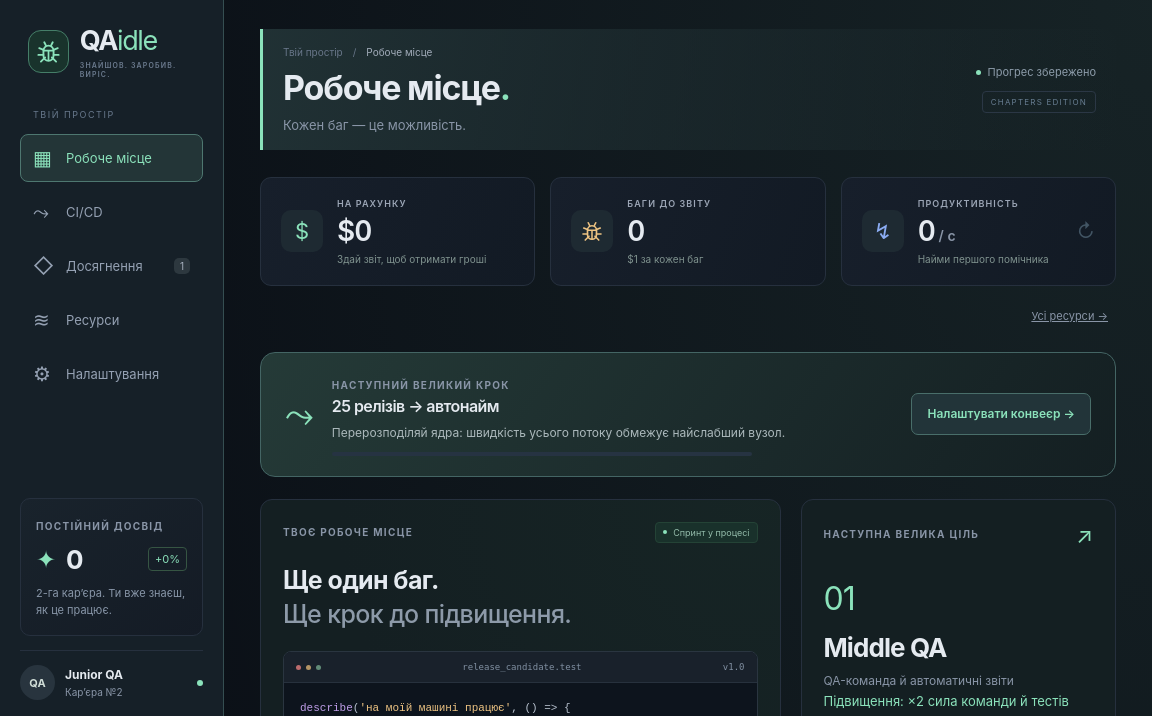
Scenario: hides spatial layers until the trial rewards are claimed
Click the button "⤳ CI/CD": (112, 212) x1=20 y1=188 x2=203 y2=236
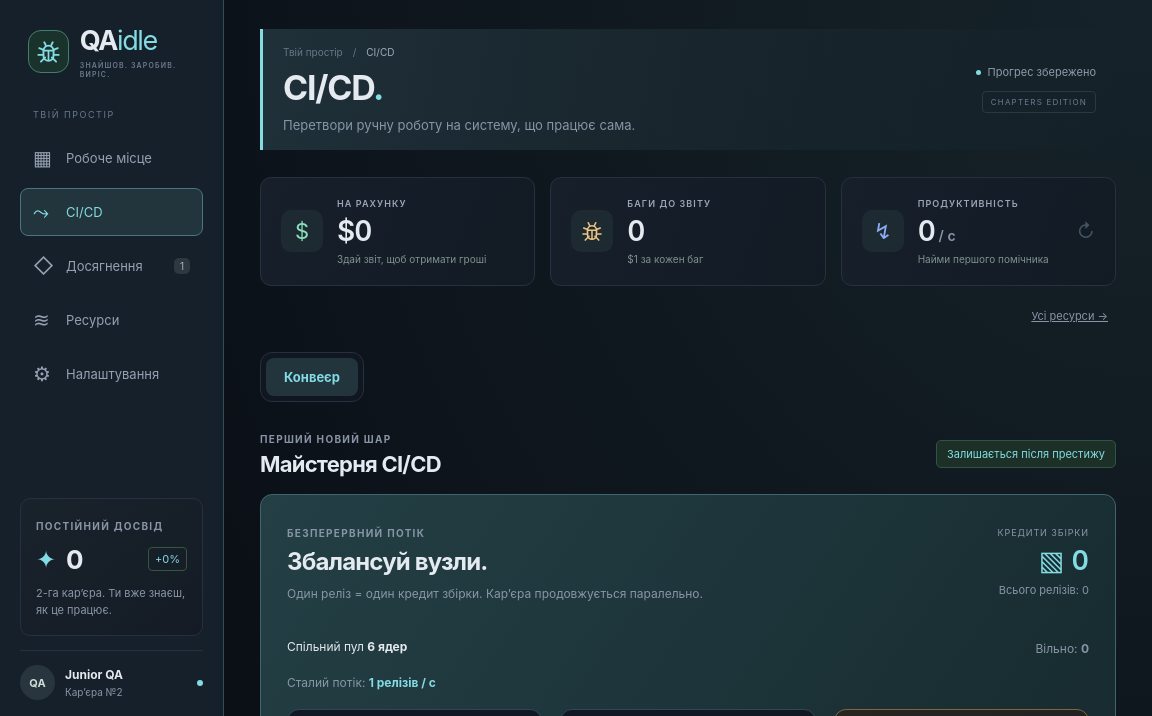
Expected: the heading "Майстерня CI/CD" is shown, x1=260 y1=451 x2=441 y2=477
